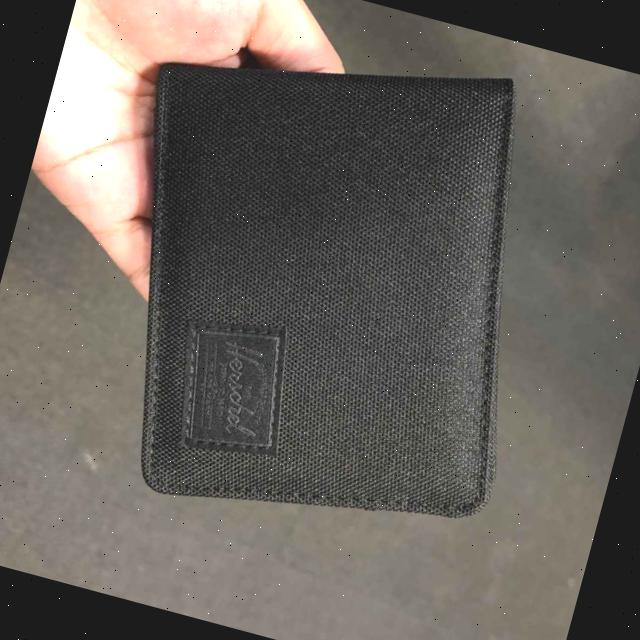handbag: (35, 0, 609, 579)
